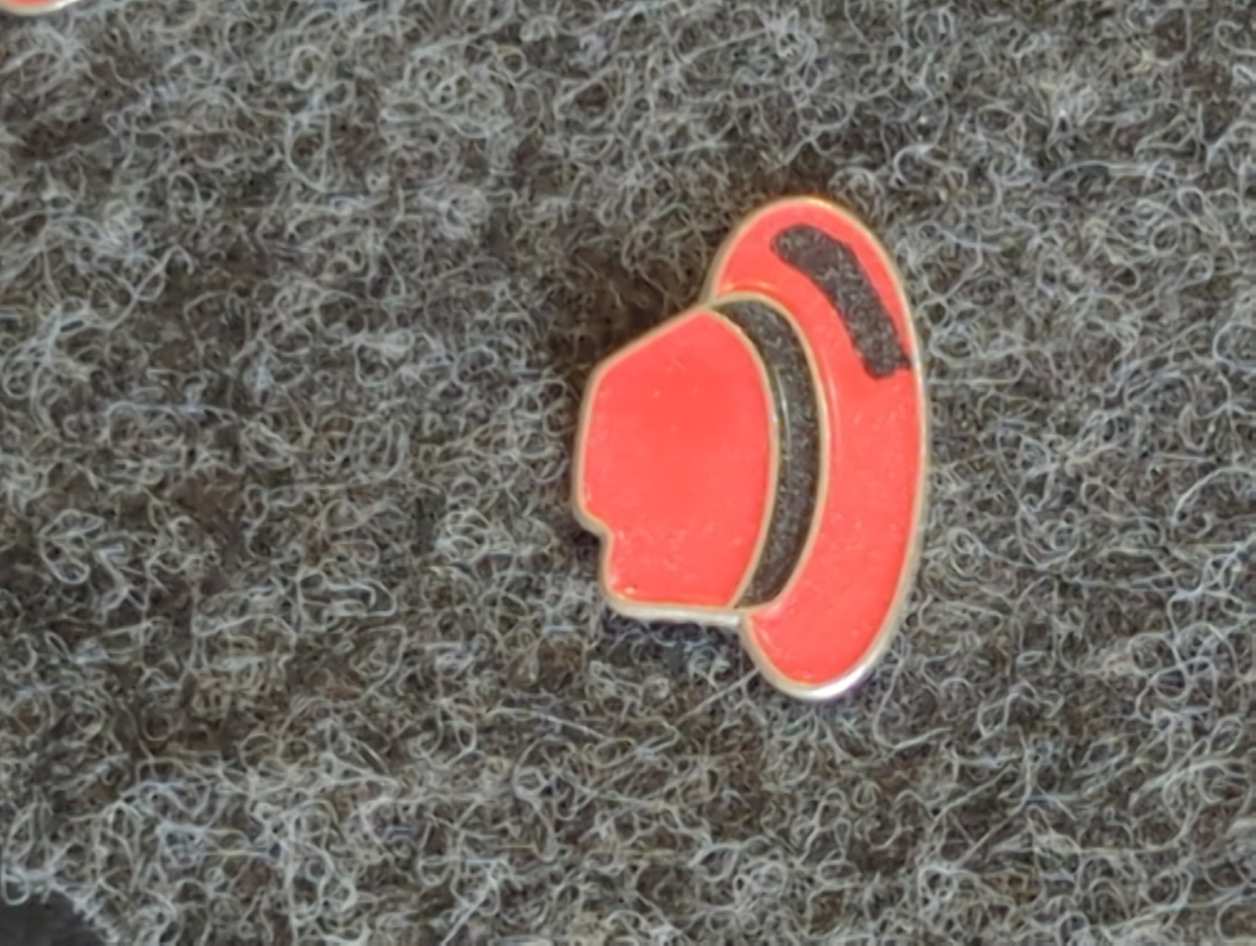Red-Hat: (434, 107, 1174, 757)
Scratch: (719, 197, 1000, 428)
